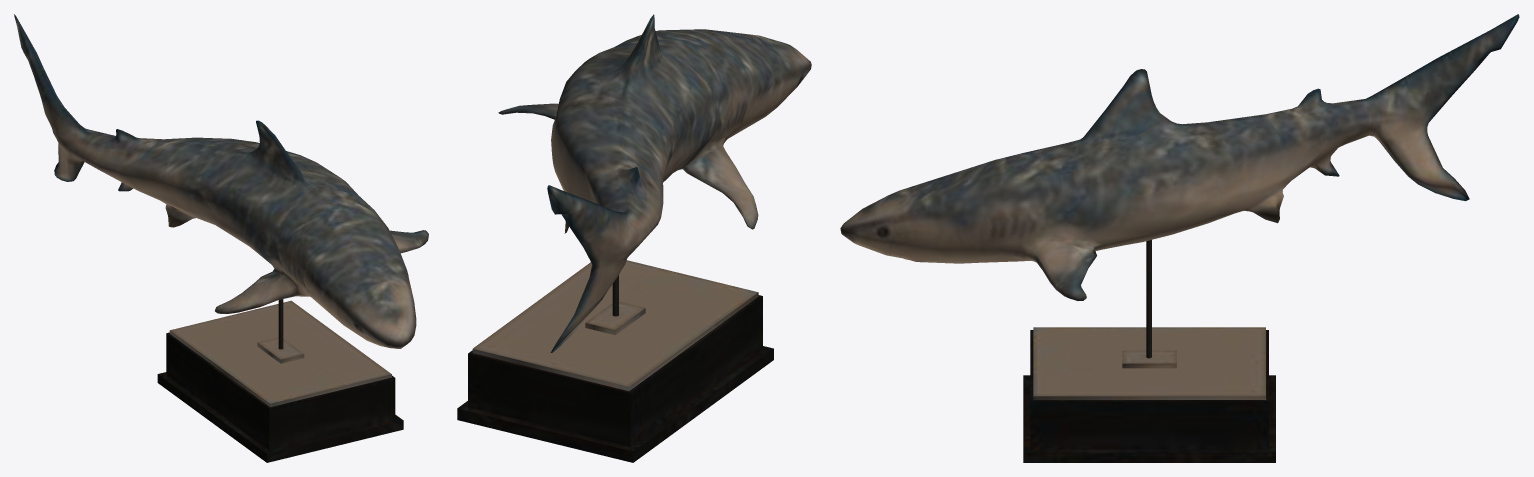
The model's file is th_haistatue.glb.
3 renders of one model, left to right at view 1: azimuth 30°, elevation 25°; view 2: azimuth 150°, elevation 25°; view 3: azimuth 270°, elevation 25°, orthographic. The views are drawn at different scales.
Visible parts, largest first — view 1: bronze_shark_statue; view 2: bronze_shark_statue; view 3: bronze_shark_statue.
Part boxes in pixels (<box>): bronze_shark_statue: <box>14,14,428,462</box>; bronze_shark_statue: <box>457,14,811,462</box>; bronze_shark_statue: <box>840,14,1519,462</box>.
Size of the model in its own units: 0.3518 by 0.4316 by 0.7598.
Materials: 1 (1 with a texture image).
